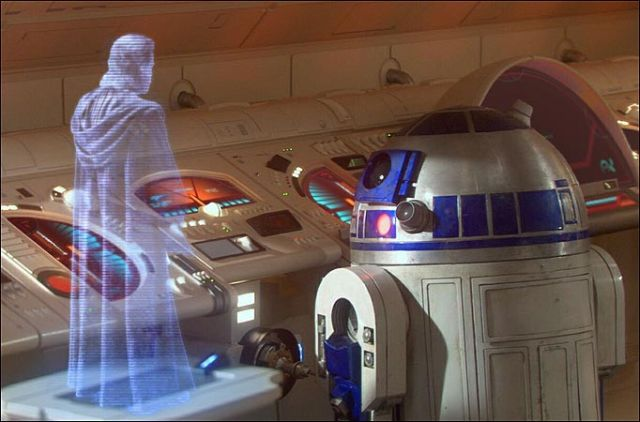r2d2: (314, 100, 626, 422)
